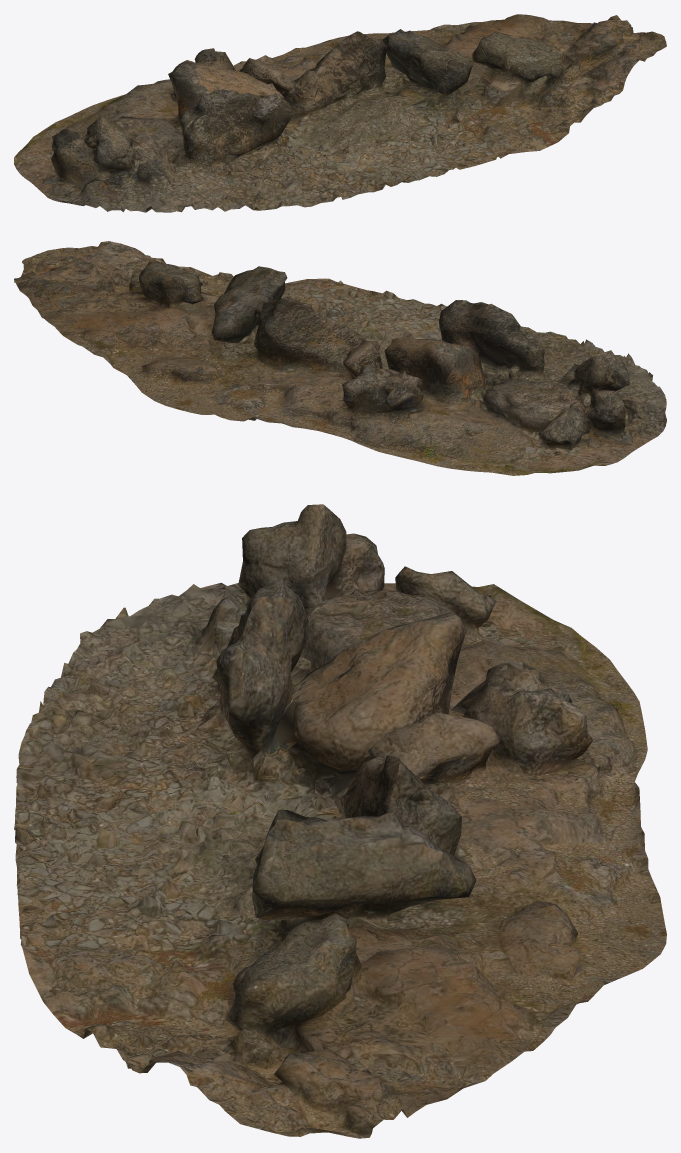
The model's file is coast-rocks-b.glb.
3 views of the same model, one above another, from view 1: azimuth 30°, elevation 25°; view 2: azimuth 150°, elevation 25°; view 3: azimuth 270°, elevation 25° (orthographic). The views are drawn at different scales.
Parts seen in each view (by area): view 1: Coastal limestone - Poly Haven Coast Land Rocks 02; view 2: Coastal limestone - Poly Haven Coast Land Rocks 02; view 3: Coastal limestone - Poly Haven Coast Land Rocks 02.
Part boxes in pixels (box(x1,y1,x2,y2)): Coastal limestone - Poly Haven Coast Land Rocks 02: box(14, 14, 666, 212); Coastal limestone - Poly Haven Coast Land Rocks 02: box(14, 241, 666, 475); Coastal limestone - Poly Haven Coast Land Rocks 02: box(14, 504, 666, 1138).
Bounding box in the file's own units: 8 × 1.06 × 3.74.
1 material, 1 textured.
